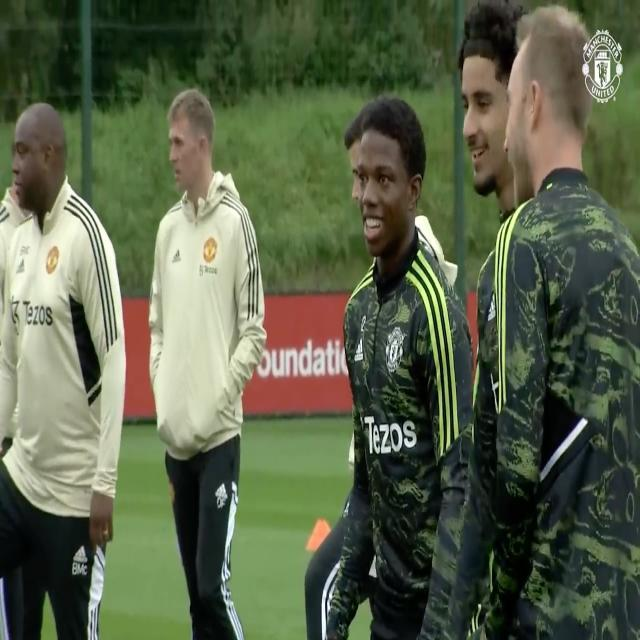Adidas: (354, 335, 366, 364), (73, 545, 90, 564), (170, 245, 183, 266)
